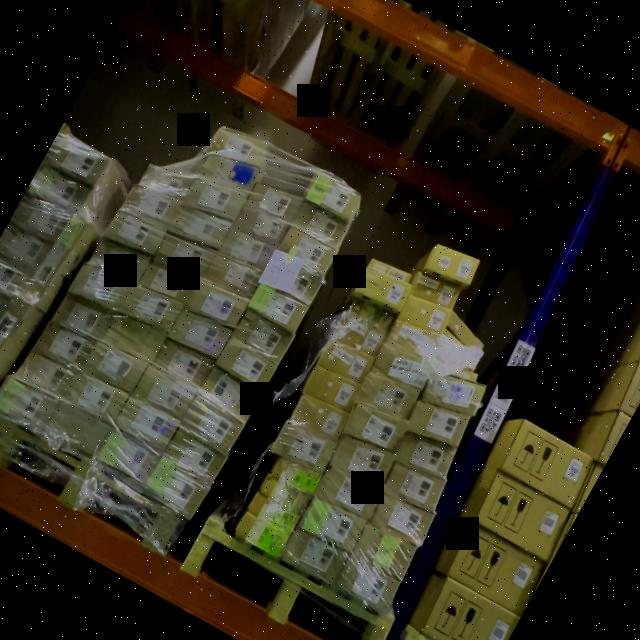box: (443, 523, 547, 618), (474, 469, 571, 562), (498, 417, 597, 508), (21, 219, 87, 304), (281, 527, 350, 586), (316, 466, 384, 523), (336, 558, 403, 615), (353, 524, 418, 582), (298, 498, 366, 553), (368, 494, 437, 548), (269, 420, 336, 474), (149, 456, 209, 515), (258, 249, 321, 305), (67, 374, 130, 429), (344, 400, 410, 451), (331, 435, 397, 486), (184, 396, 243, 453), (33, 322, 96, 373), (219, 337, 277, 392), (67, 266, 132, 315), (200, 367, 261, 419), (384, 463, 446, 514), (116, 398, 178, 449), (0, 377, 56, 433), (135, 366, 197, 416), (99, 433, 158, 485), (395, 431, 457, 480), (359, 372, 422, 420), (166, 431, 226, 481), (86, 341, 146, 391), (406, 402, 471, 447), (236, 310, 294, 360), (104, 210, 165, 257), (421, 373, 486, 417), (376, 341, 433, 391), (189, 279, 248, 327), (15, 352, 75, 399), (169, 312, 233, 355), (121, 186, 182, 231), (125, 287, 182, 335), (103, 317, 165, 361), (251, 284, 309, 331), (49, 406, 107, 452), (289, 396, 348, 441), (169, 209, 233, 250), (302, 366, 360, 411), (318, 340, 377, 384), (91, 240, 150, 284), (327, 316, 384, 361), (184, 183, 248, 223), (233, 512, 288, 558), (353, 270, 410, 314), (155, 235, 214, 276), (295, 202, 349, 246), (52, 297, 108, 339), (157, 344, 212, 386), (245, 492, 298, 535), (139, 265, 196, 304), (279, 228, 333, 269), (308, 171, 359, 214), (425, 245, 481, 284), (397, 297, 456, 334), (409, 271, 462, 311), (209, 129, 269, 164), (221, 230, 272, 271), (248, 185, 301, 223), (236, 208, 290, 245), (388, 321, 445, 355), (202, 157, 259, 191), (271, 457, 321, 493), (261, 476, 308, 514), (207, 258, 256, 294), (140, 164, 194, 196), (346, 301, 395, 335), (447, 313, 487, 351), (0, 300, 27, 352), (431, 355, 480, 383), (370, 261, 413, 286)
